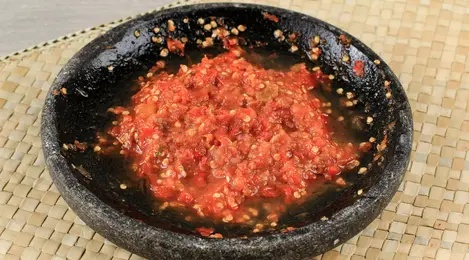sambal: (112, 50, 350, 223)
